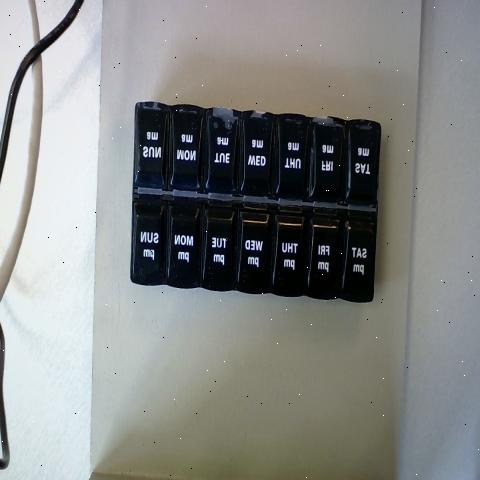FRI-am: (310, 122, 342, 200)
FRI-pm: (310, 220, 342, 292)
MON-am: (170, 111, 206, 191)
MON-pm: (172, 203, 205, 285)
PillBox: (106, 81, 396, 329)
SAT-am: (346, 122, 382, 205)
SAT-pm: (346, 218, 378, 297)
SUN-am: (137, 103, 169, 186)
SUN-pm: (134, 196, 167, 283)
THU-am: (277, 116, 306, 200)
THU-pm: (276, 216, 308, 292)
TUE-am: (208, 114, 241, 195)
TUE-pm: (208, 206, 237, 288)
WED-am: (241, 116, 275, 200)
WED-pm: (241, 206, 273, 286)
